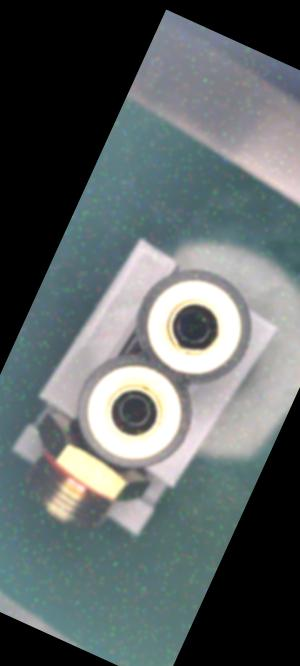off-centered: (164, 296, 219, 352)
